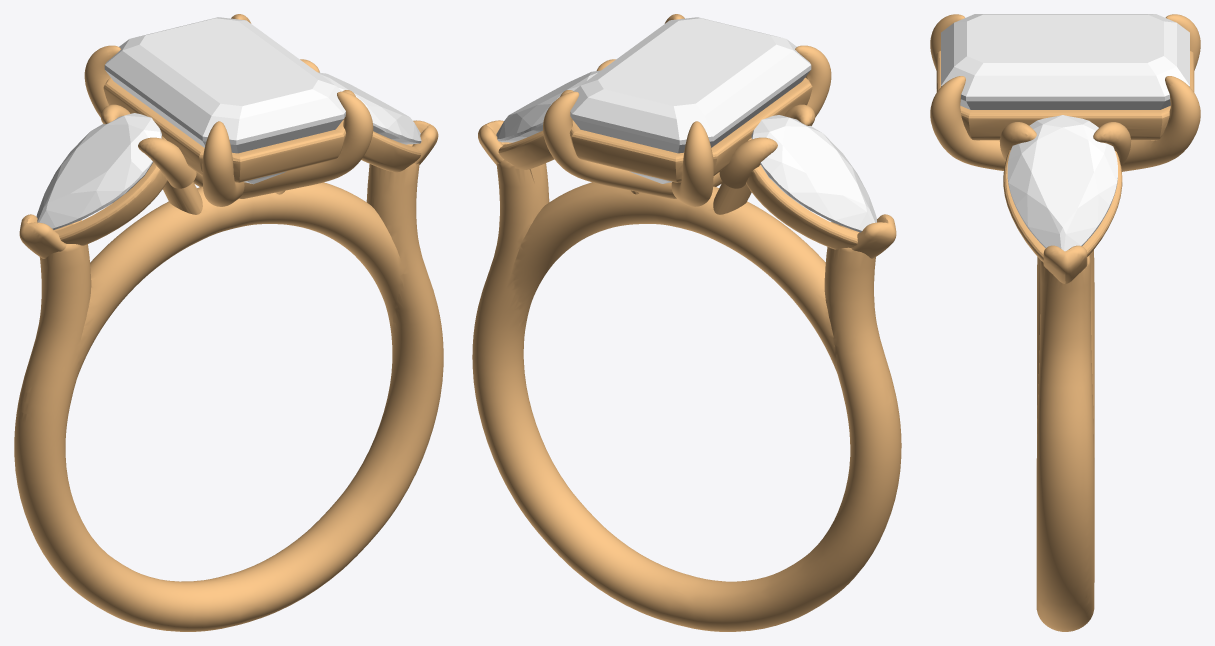
3 renders of one model, left to right at view 1: azimuth 30°, elevation 25°; view 2: azimuth 150°, elevation 25°; view 3: azimuth 270°, elevation 25°, orthographic.
Bounding box in the file's own units: 2.34 × 2.98 × 1.28.
